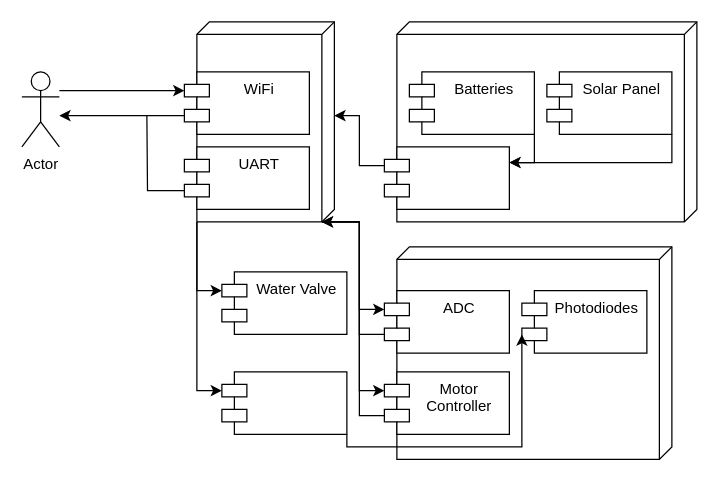
Image size: 719x481. Some labels were removed from this diagram. Here are the shapes that lost their labels. From the top down, the box of each, then its label:
(196, 21, 334, 222): Microcontroller
(396, 21, 697, 222): Power
(383, 146, 509, 209): Voltage Regulators
(396, 246, 672, 459): Sensing
(221, 371, 347, 434): Light source
